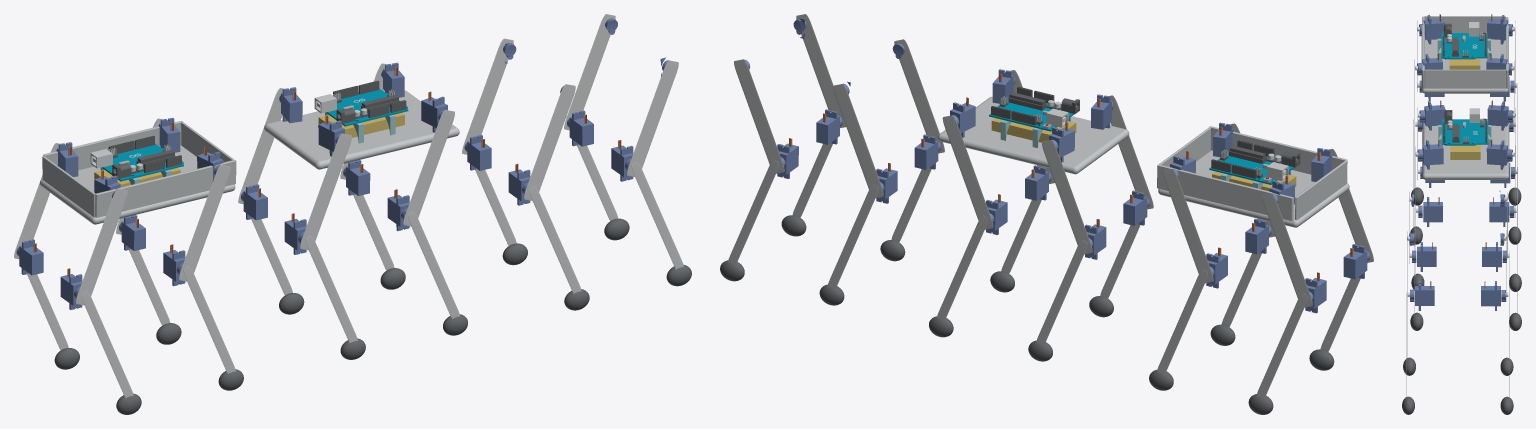
The picture shows the model from 3 angles, left to right: view 1: azimuth 30°, elevation 25°; view 2: azimuth 150°, elevation 25°; view 3: azimuth 270°, elevation 25°; orthographic projection. The views are drawn at different scales.
Parts seen in each view (by area): view 1: Mesh_Mesh_head_geo.001_lambert2SG.001; view 2: Mesh_Mesh_head_geo.001_lambert2SG.001; view 3: Mesh_Mesh_head_geo.001_lambert2SG.001.
Part boxes in pixels (left/top/right/bottom): Mesh_Mesh_head_geo.001_lambert2SG.001: left=14, top=14, right=691, bottom=414; Mesh_Mesh_head_geo.001_lambert2SG.001: left=720, top=14, right=1373, bottom=414; Mesh_Mesh_head_geo.001_lambert2SG.001: left=1402, top=14, right=1521, bottom=414.
Size of the model in its own units: 0.6374 by 0.2351 by 0.1379.
